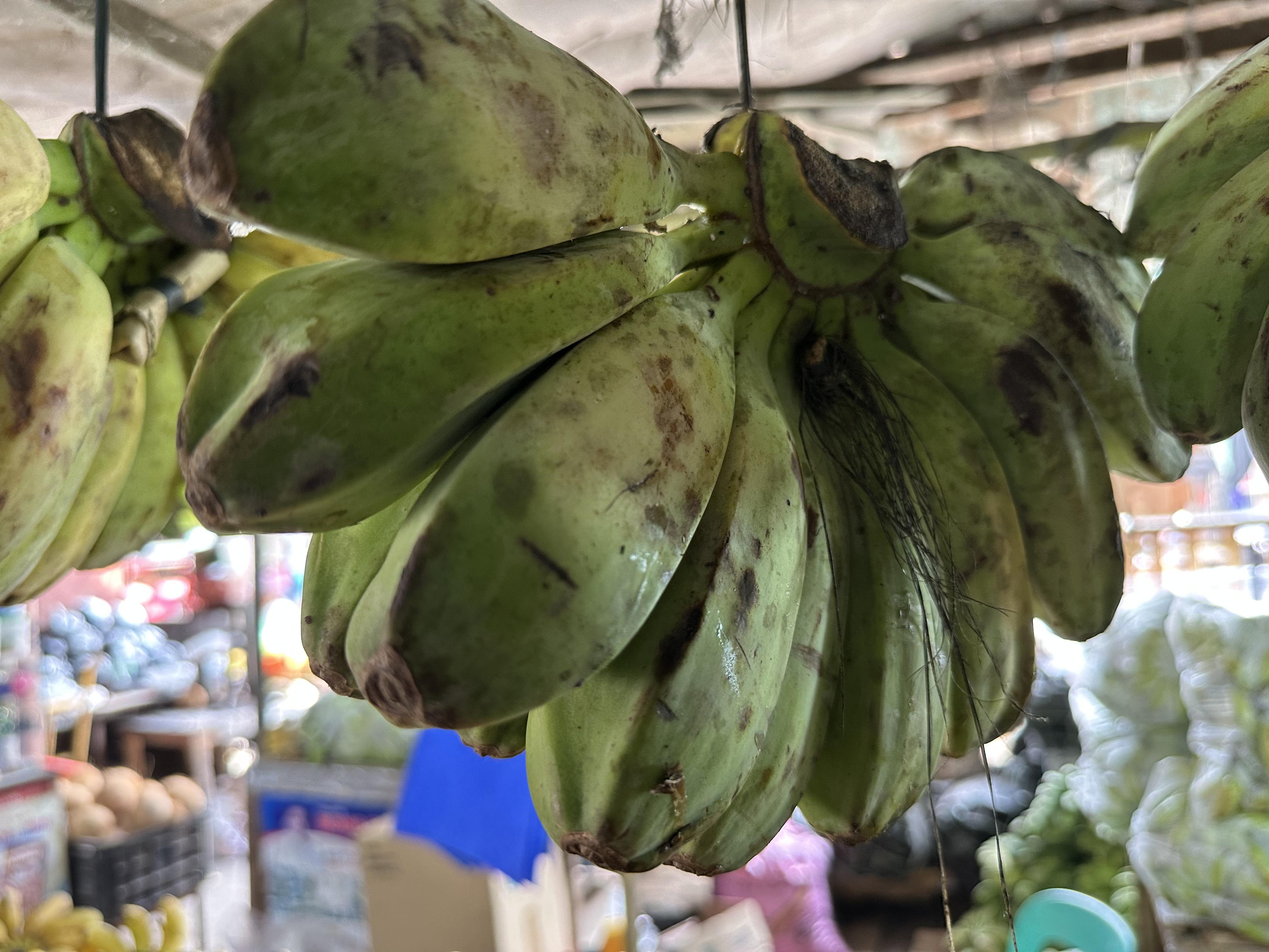underripe: (175, 0, 928, 881), (0, 99, 349, 608), (877, 146, 1193, 704), (1124, 39, 1269, 481)
